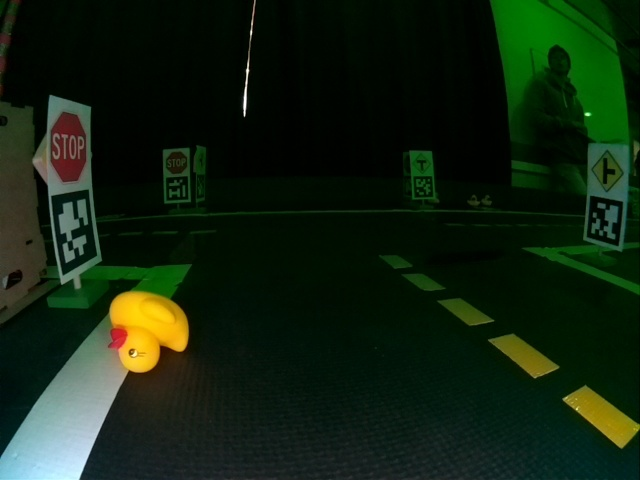Duckie: (109, 292, 189, 371), (483, 194, 491, 203), (469, 195, 477, 203)
Intersection sign: (590, 149, 625, 190), (415, 152, 432, 173)
QR code: (52, 188, 92, 278), (585, 200, 623, 245), (164, 181, 188, 200), (415, 180, 435, 198), (196, 177, 204, 202)
Stop sign: (50, 107, 89, 185), (164, 151, 189, 174)
